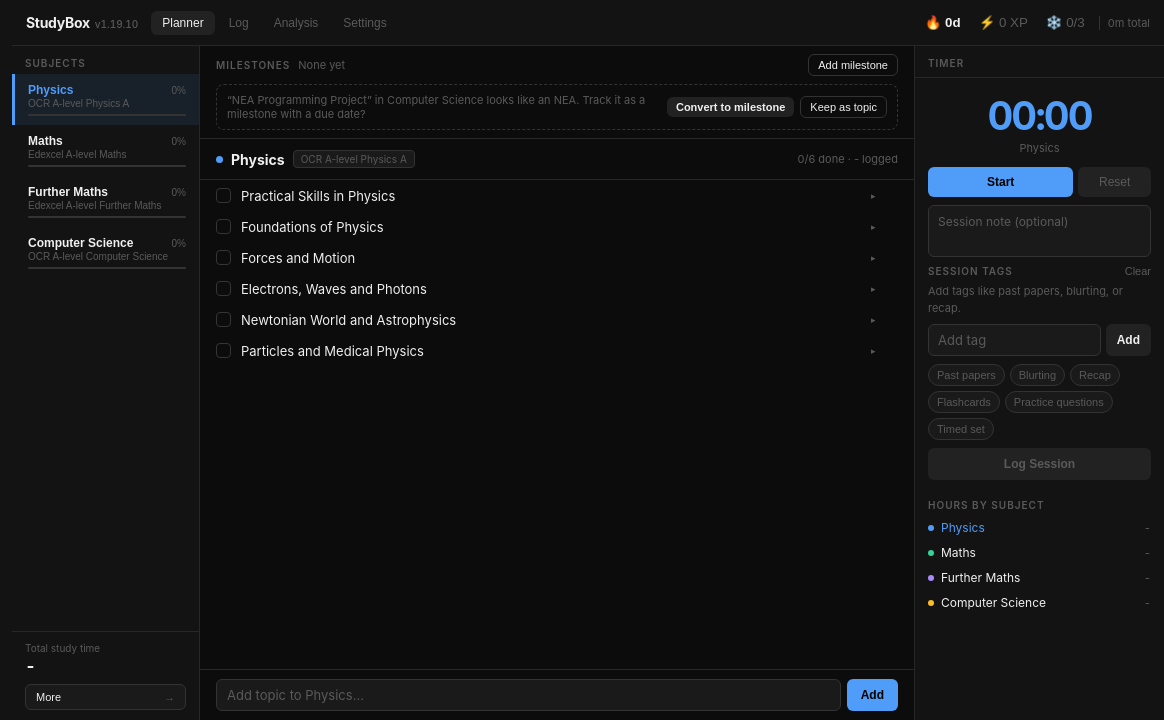
Test: milestones in the app › adds a milestone from the planner and persists it
The width and height of the screenshot is (1164, 720).
Click the button "Add milestone" at (853, 65), box top-left (808, 54), bottom-right (898, 76)
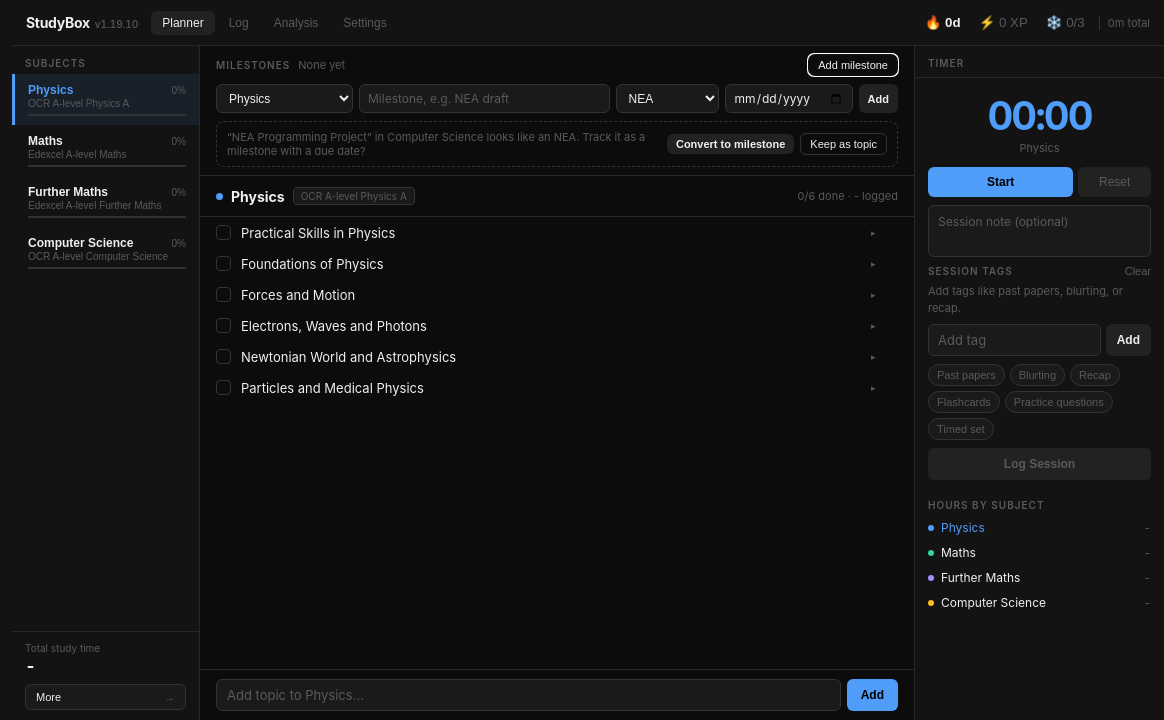
Type "Mock exams" into the field named "Milestone name" at (484, 98), box top-left (359, 84), bottom-right (610, 113)
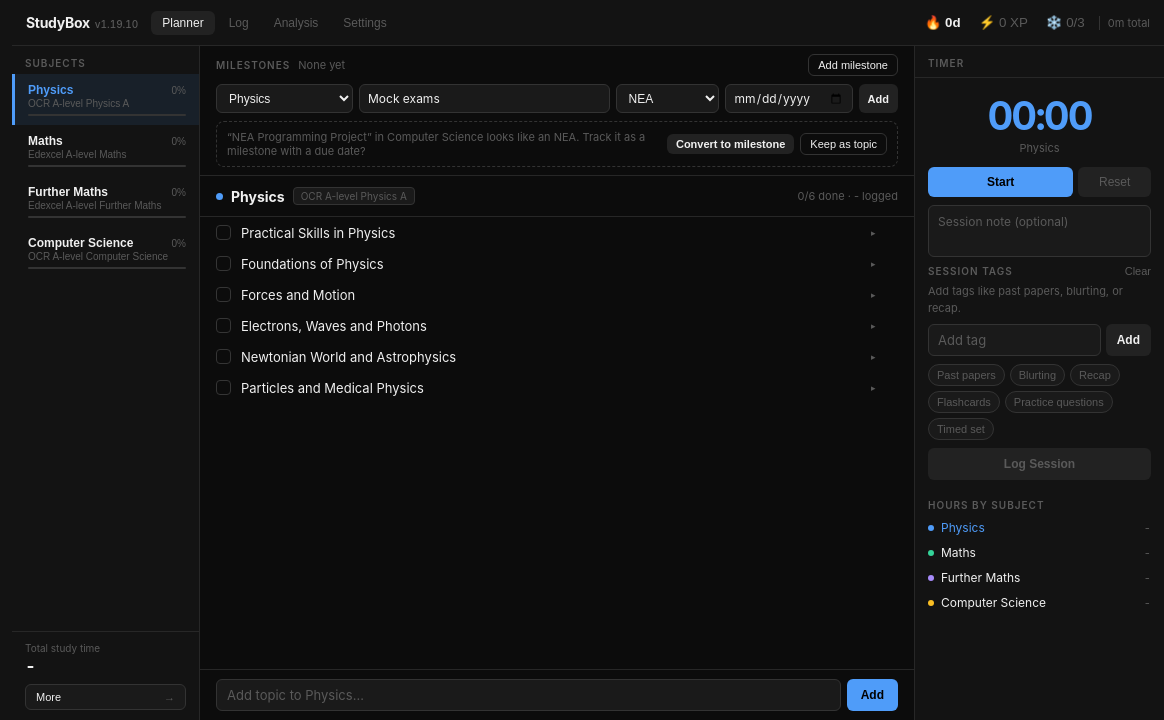
Select "Other" in the dropdown named "Milestone kind" at (667, 98), box top-left (616, 84), bottom-right (719, 113)
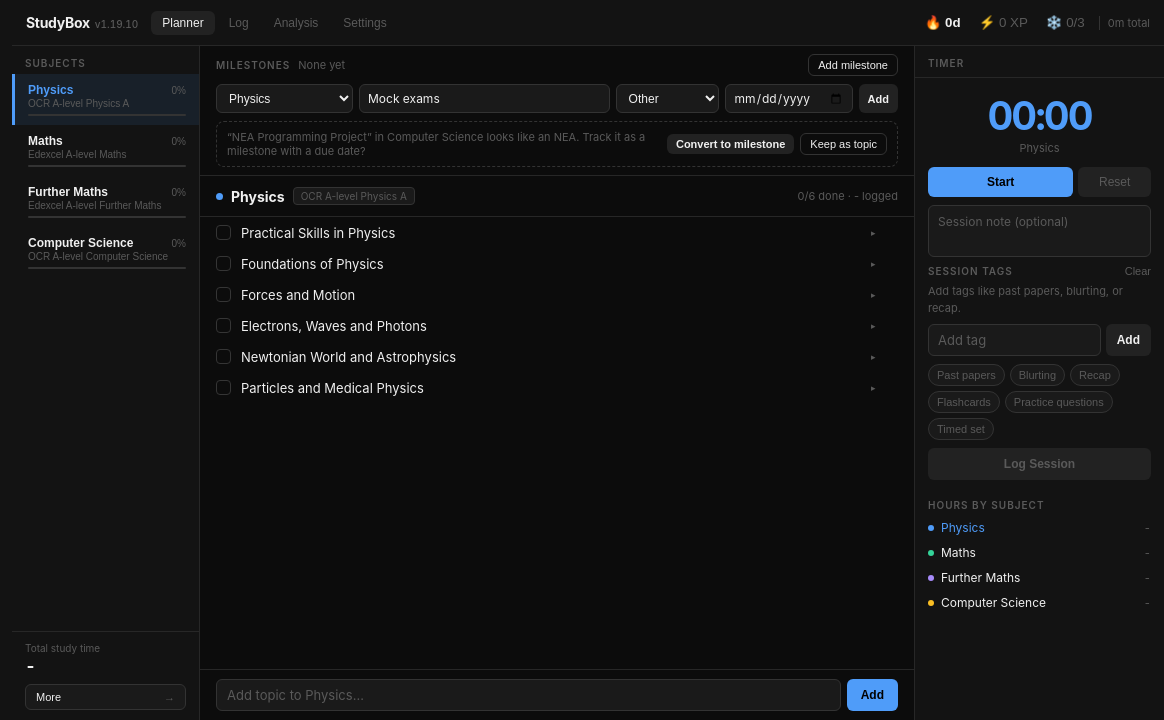
Click the 1st button "Add" at (878, 98), box top-left (859, 84), bottom-right (898, 113)
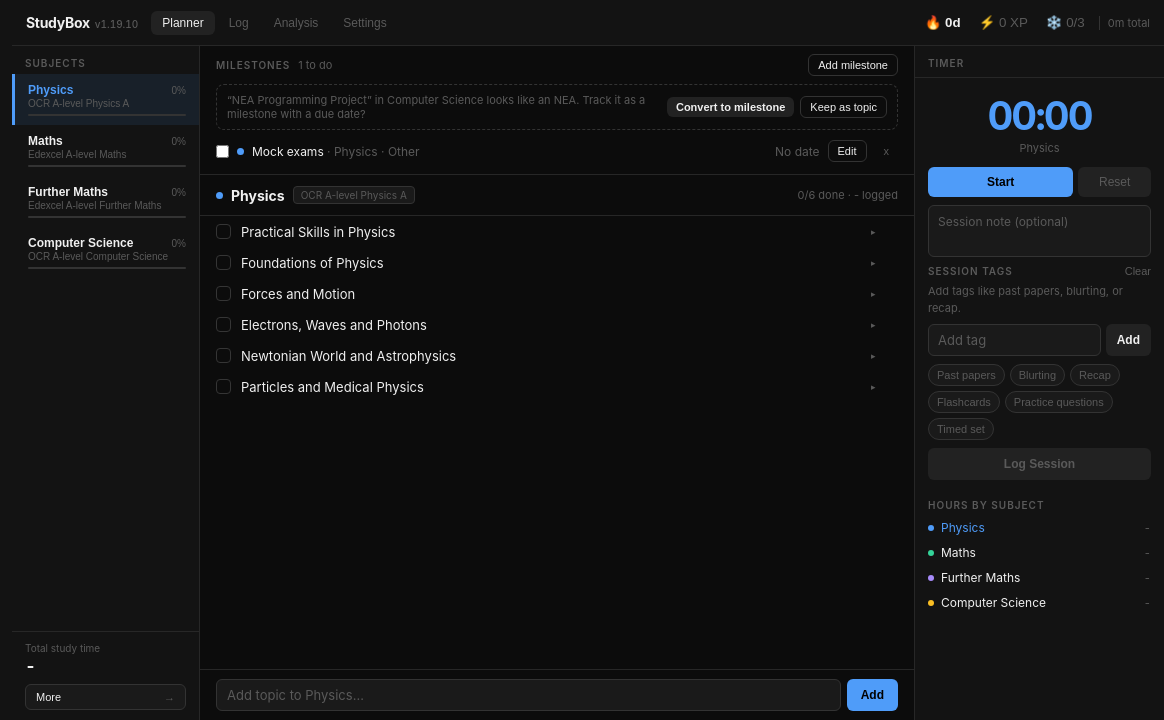
Expected: the text "Mock exams · Physics · Other" is shown, top-left (252, 144), bottom-right (420, 158)
